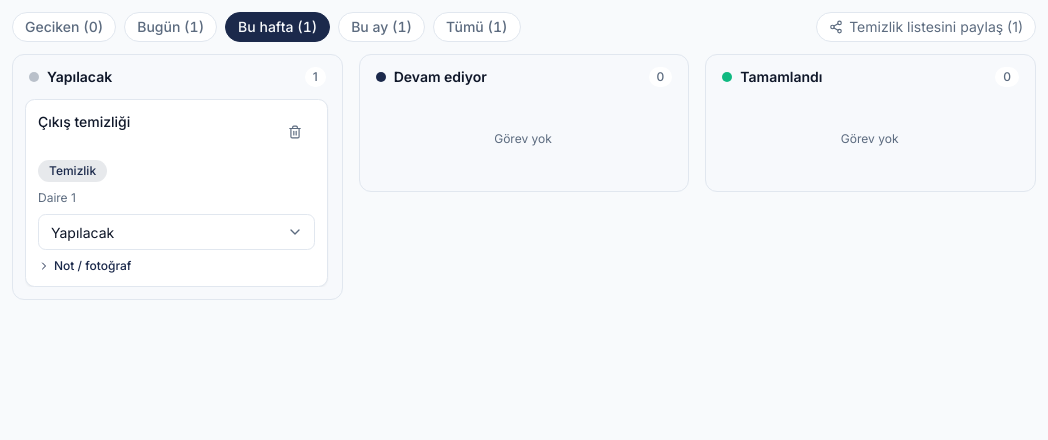
Scenario: TaskBoard — not kaydı görünür ve etiketli › YARIŞ: A kaydedilirken metin B olunca, A biten istekte B ne silinir ne 'Kaydedildi' der
Click the button "Not / fotoğraf". click: (85, 266)
box: [38, 252, 131, 280]
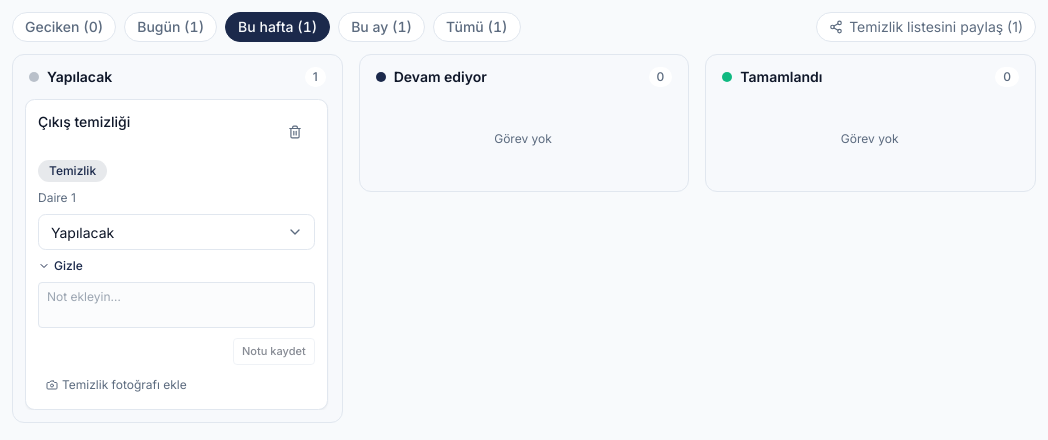
Type "A" into the text box named "Görev notu". click: (176, 305)
box: [38, 282, 315, 328]
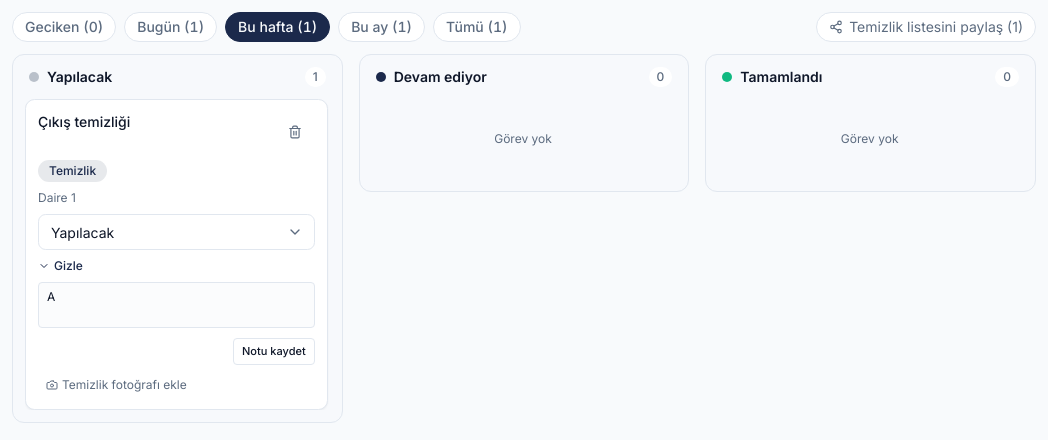
Click the button "Notu kaydet". click: (274, 351)
box: [233, 338, 315, 364]
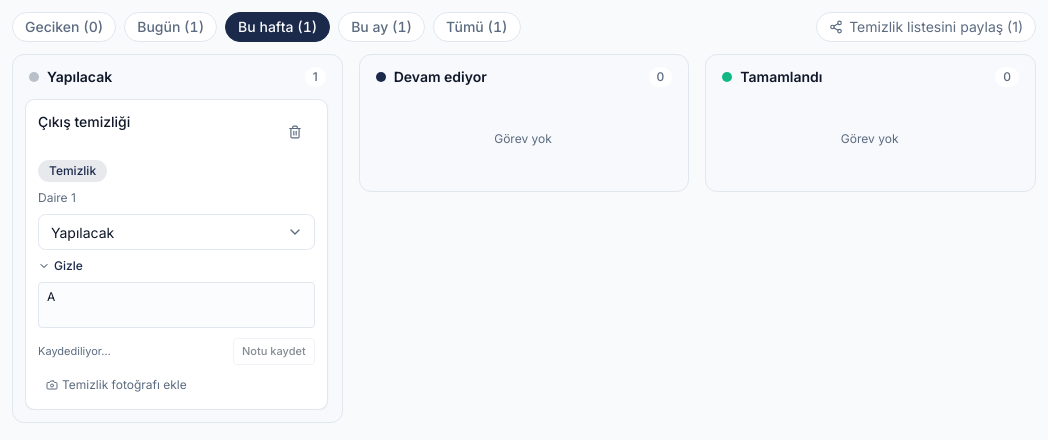
Replace the text in the text box named "Görev notu" with "B". click: (176, 305)
box: [38, 282, 315, 328]
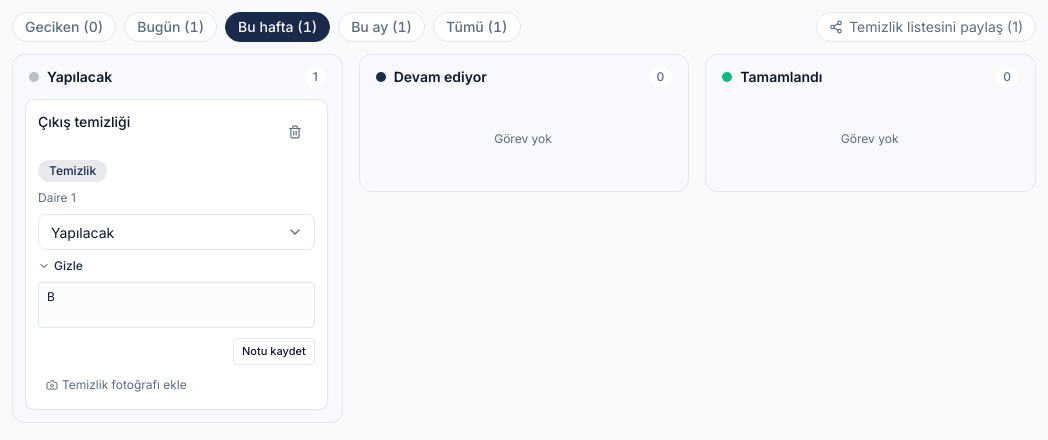
Expected: the text "Kaydedildi" is not shown
Now the text "Kaydediliyor…" is gone
Now the button "Notu kaydet" is enabled
Click the button "Notu kaydet". click: (274, 351)
box: [233, 338, 315, 364]
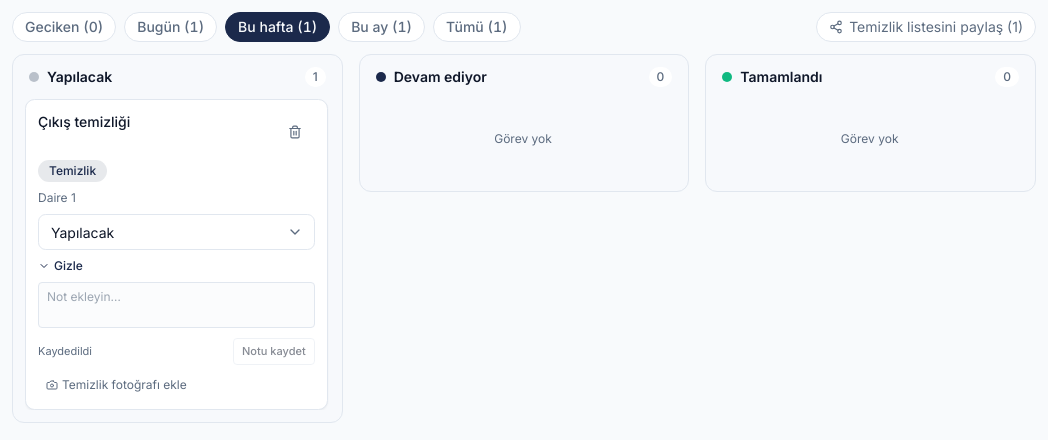
Now the text "Kaydedildi" is shown, box [38, 343, 92, 360]
